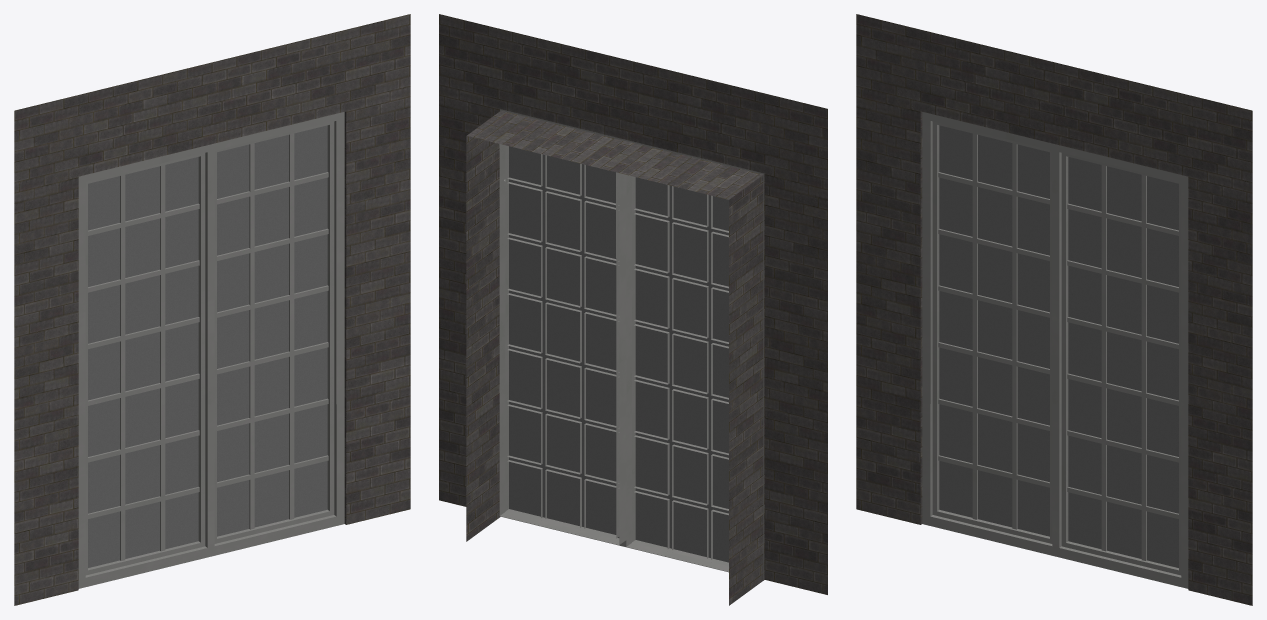
Rendered from Sm_Door02.fbx.
3 views of the same model, side by side, from view 1: azimuth 30°, elevation 25°; view 2: azimuth 150°, elevation 25°; view 3: azimuth 330°, elevation 25° (orthographic).
Parts seen in each view (by area): view 1: Sm_Door02; view 2: Sm_Door02; view 3: Sm_Door02.
Part boxes in pixels (x1,y1,x2,y2): Sm_Door02: [14, 14, 410, 605]; Sm_Door02: [439, 14, 827, 605]; Sm_Door02: [856, 14, 1252, 605].
Size of what is drawn, in the model's own units: 251 by 40 by 300.
3 materials, 3 textured.
